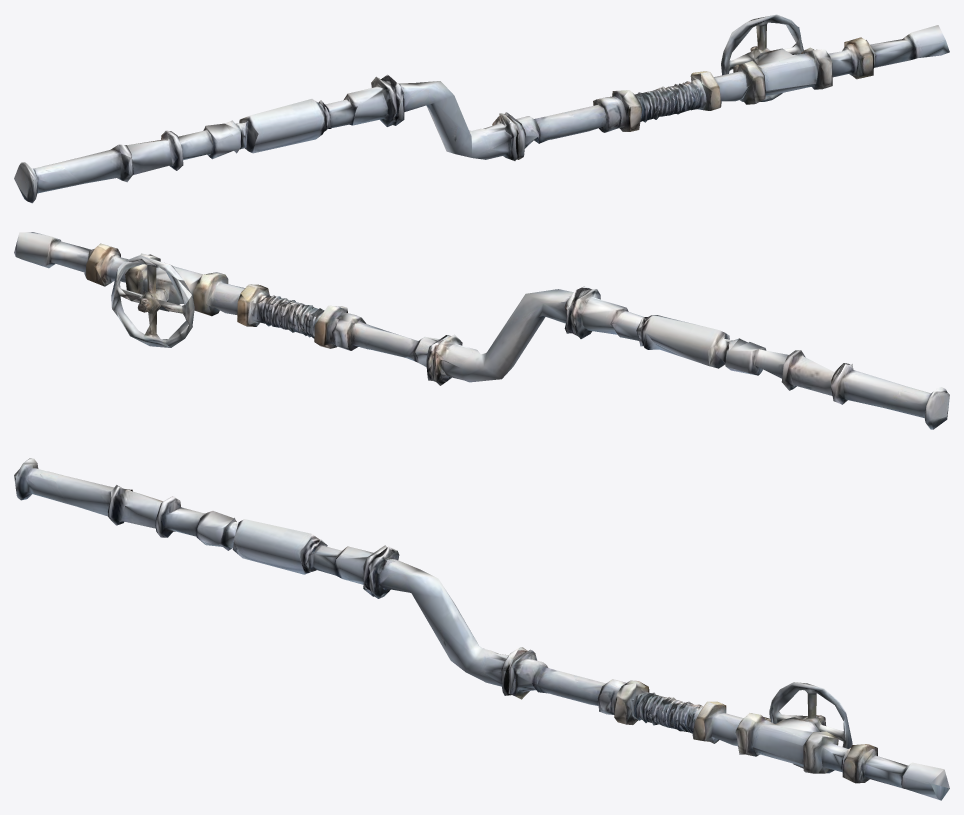
The model's file is hangar_pipe_long_b.glb.
3 renders of one model, top to bottom at view 1: azimuth 30°, elevation 25°; view 2: azimuth 150°, elevation 25°; view 3: azimuth 330°, elevation 25°, orthographic. The views are drawn at different scales.
Visible parts, largest first — view 1: hangar_pipe_long_b; view 2: hangar_pipe_long_b; view 3: hangar_pipe_long_b.
Boxes of the visible parts, left/top/right/bottom form: hangar_pipe_long_b: left=14, top=14, right=949, bottom=203; hangar_pipe_long_b: left=14, top=232, right=949, bottom=429; hangar_pipe_long_b: left=14, top=458, right=949, bottom=800.
Size of the model in its own units: 0.9673 by 0.1395 by 0.0822.
Materials: 1 (1 with a texture image).
